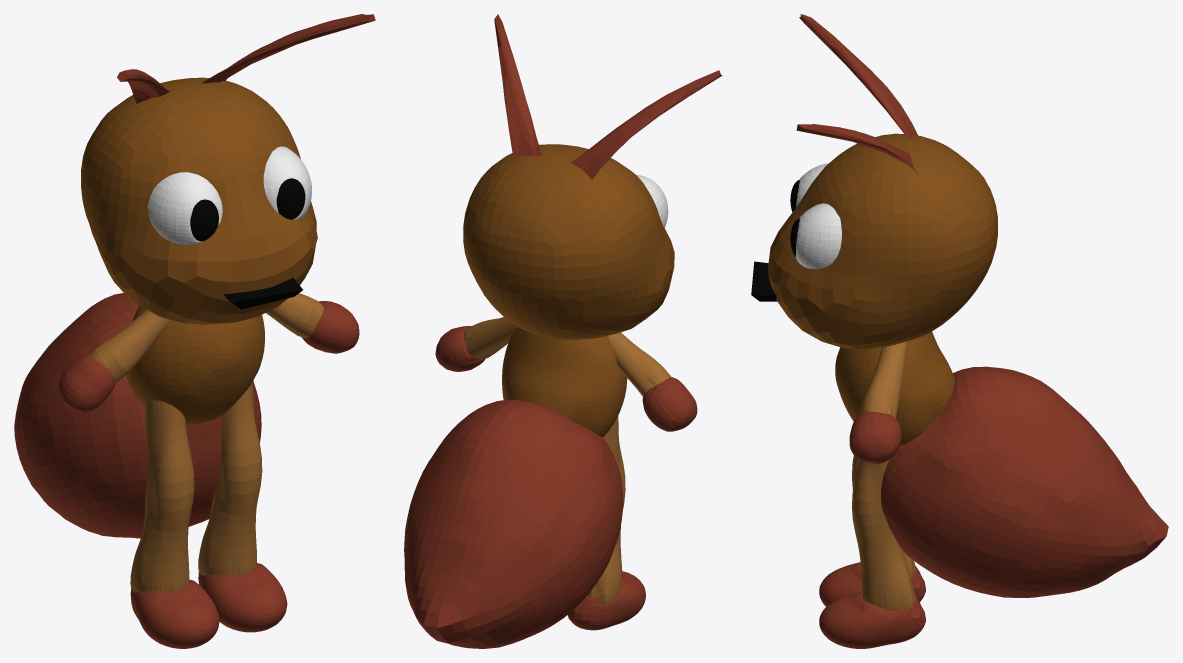
Rendered from Coint_Ant.fbx.
3 views of the same model, side by side, from view 1: azimuth 30°, elevation 25°; view 2: azimuth 150°, elevation 25°; view 3: azimuth 270°, elevation 25° (orthographic). The views are drawn at different scales.
Parts seen in each view (by area): view 1: Sphere.011, Sphere, Sphere.001, Cylinder.003, Cylinder.002, Sphere.004, Sphere.003, Sphere.010, Icosphere, Cylinder.001, Sphere.006, Sphere.005 (+5 smaller); view 2: Sphere, Sphere.011, Sphere.001, Icosphere, Sphere.004, Sphere.006, Cylinder.001, Cylinder.003, Cylinder.008, Sphere.005, Sphere.010; view 3: Sphere, Sphere.011, Sphere.001, Cylinder.002, Sphere.003, Icosphere, Sphere.007, Sphere.005, Cylinder.008, Sphere.004, Cube.
Part boxes in pixels (box(x1,y1,x2,y2)): Sphere.011: box(81, 77, 317, 324); Sphere: box(14, 293, 261, 538); Sphere.001: box(126, 305, 264, 424); Cylinder.003: box(130, 400, 194, 591); Cylinder.002: box(198, 382, 262, 575); Sphere.004: box(130, 579, 219, 648); Sphere.003: box(198, 563, 287, 632); Sphere.010: box(147, 172, 222, 244); Icosphere: box(117, 14, 375, 103); Cylinder.001: box(90, 310, 171, 382); Sphere.006: box(58, 353, 115, 412); Sphere.005: box(301, 301, 359, 353); Sphere: box(404, 399, 623, 648); Sphere.011: box(463, 144, 674, 339); Sphere.001: box(502, 327, 627, 437); Icosphere: box(494, 14, 722, 179); Sphere.004: box(567, 571, 645, 630); Sphere.006: box(642, 377, 697, 431); Cylinder.001: box(608, 332, 670, 396); Cylinder.003: box(587, 416, 625, 606); Cylinder.008: box(463, 317, 518, 360); Sphere.005: box(435, 326, 485, 371); Sphere.010: box(636, 175, 668, 228); Sphere: box(880, 366, 1168, 597); Sphere.011: box(768, 133, 997, 349); Sphere.001: box(835, 331, 954, 445); Cylinder.002: box(852, 459, 915, 610); Sphere.003: box(819, 591, 925, 648); Icosphere: box(796, 14, 917, 172); Sphere.007: box(796, 203, 841, 268); Sphere.005: box(849, 411, 901, 463); Cylinder.008: box(860, 341, 908, 418); Sphere.004: box(819, 562, 925, 606); Cube: box(751, 261, 776, 301).
Size of the model in its own units: 289 by 589 by 397.
